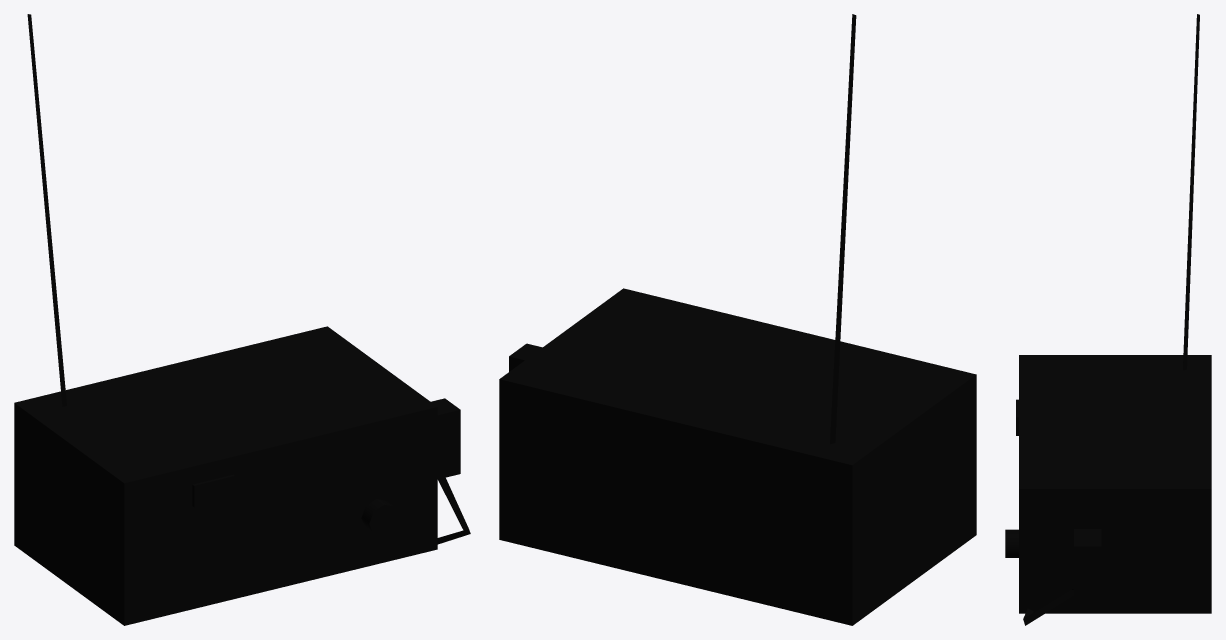
File: SM_radio_ranger.fbx
3 views of the same model, side by side, from view 1: azimuth 30°, elevation 25°; view 2: azimuth 150°, elevation 25°; view 3: azimuth 270°, elevation 25° (orthographic). The views are drawn at different scales.
Parts seen in each view (by area): view 1: radio_ranger, radio_ranger_knob, radio_ranger_lamp; view 2: radio_ranger; view 3: radio_ranger, radio_ranger_knob.
Boxes of the visible parts, x1,y1,x2,y2 form: radio_ranger: (14, 14, 470, 625); radio_ranger_knob: (361, 499, 398, 535); radio_ranger_lamp: (192, 474, 234, 507); radio_ranger: (499, 14, 976, 625); radio_ranger: (1019, 14, 1211, 625); radio_ranger_knob: (1005, 529, 1018, 557).
Bounding box in the file's own units: 0.54 × 0.7554 × 0.3.
